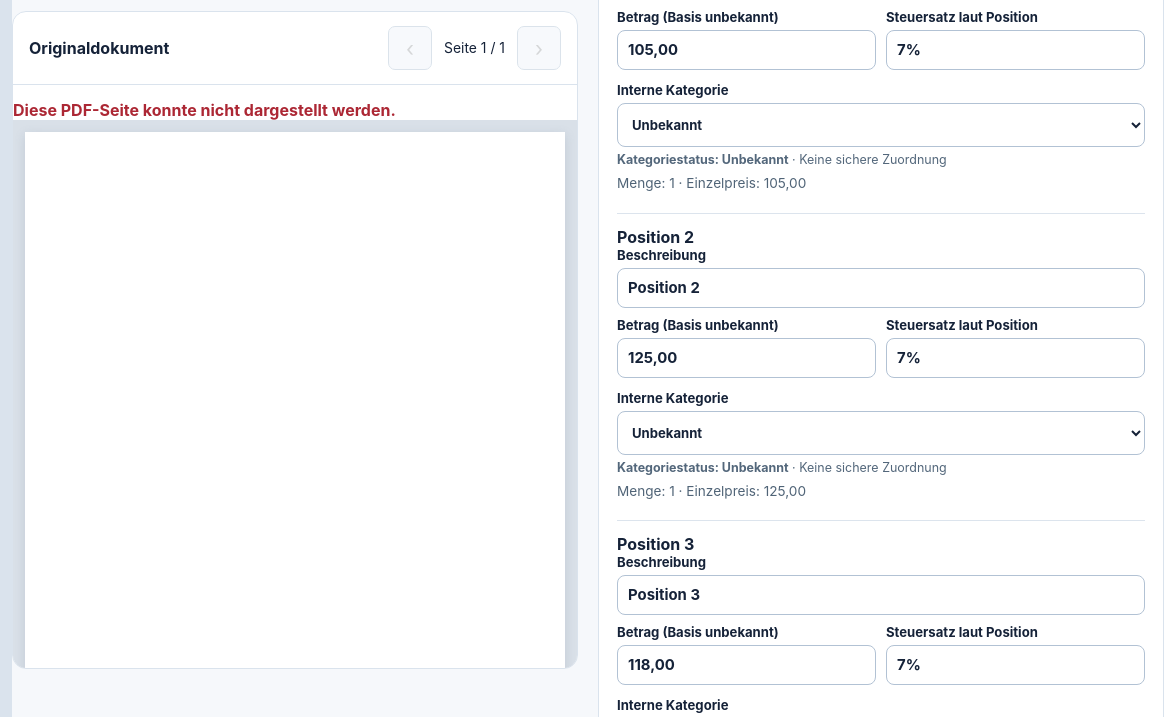
Test: position sum in the browser invoice review › never displays a partial category sum after an invalid amount
(page scrolled)
Replace the text in the field named "Position 2 Betrag" with "invalid" at (746, 358), box left=617, top=338, right=876, bottom=378
(page scrolled)
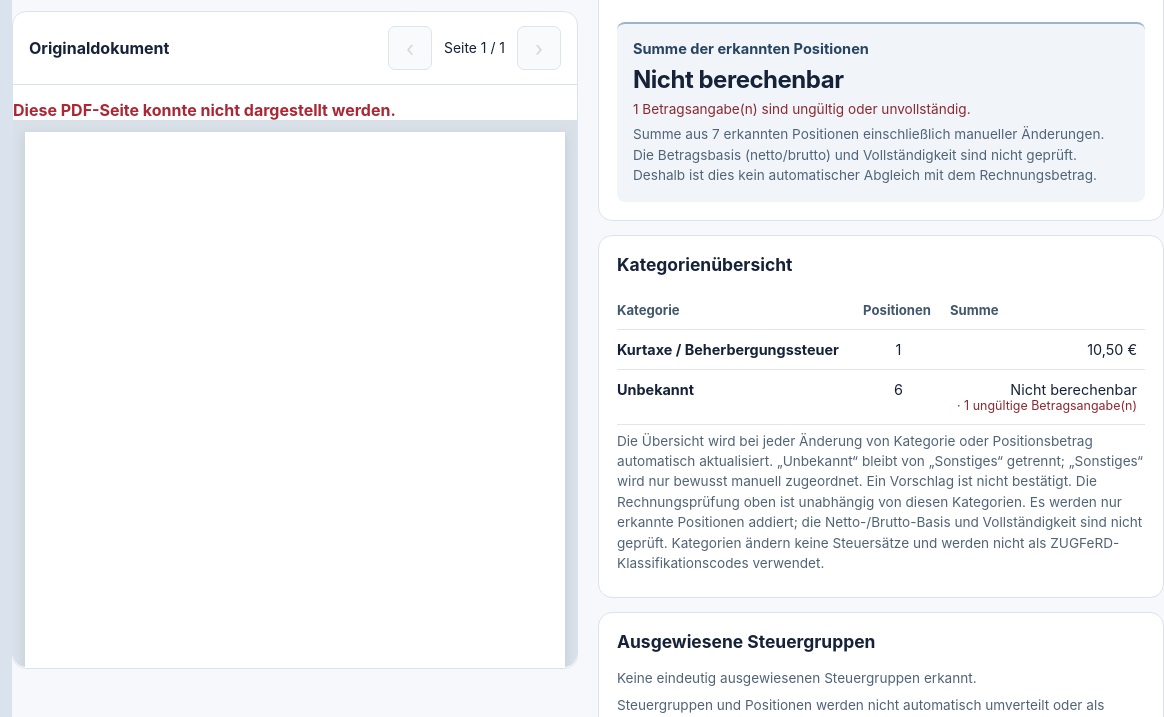
Expected: the table shows "10,50 €", left=1087, top=341, right=1137, bottom=358
Now the table shows "Nicht berechenbar", box left=1010, top=381, right=1137, bottom=398
Now the table shows "1 ungültige Betragsangabe(n)", box left=957, top=398, right=1137, bottom=413
